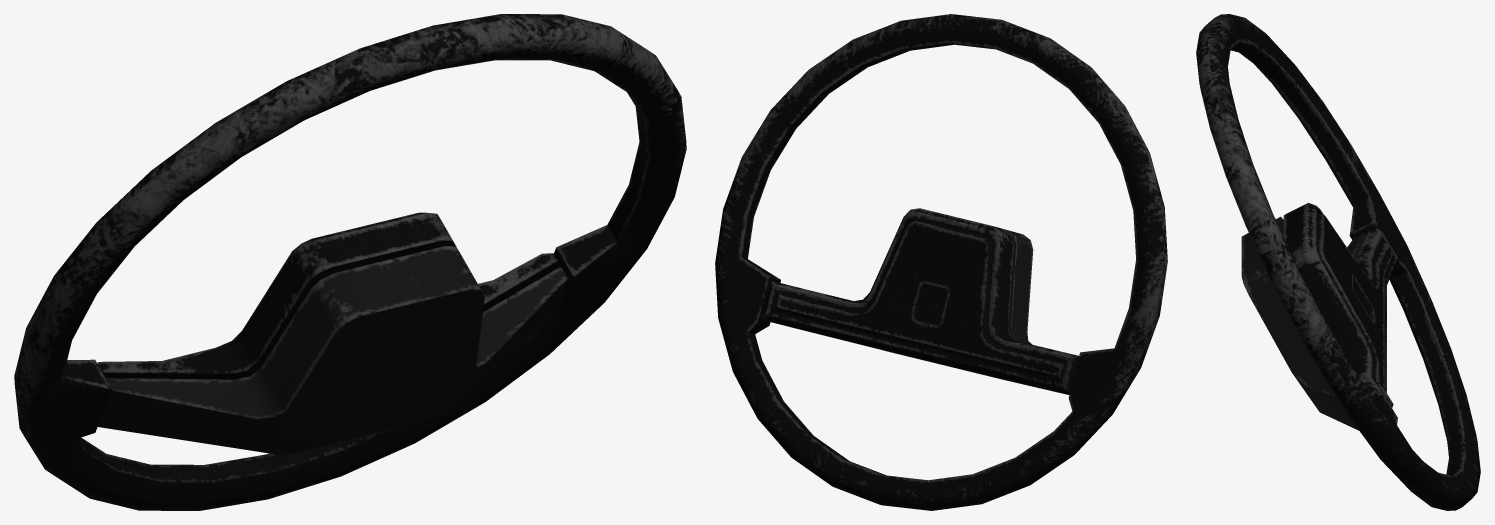
File: steering_wheel.fbx
3 renders of one model, left to right at view 1: azimuth 30°, elevation 25°; view 2: azimuth 150°, elevation 25°; view 3: azimuth 270°, elevation 25°, orthographic. The views are drawn at different scales.
Parts seen in each view (by area): view 1: Cylinder.027, Cube.037, Cube.038; view 2: Cylinder.027, Cube.038, Cube.037; view 3: Cylinder.027, Cube.038, Cube.037.
Boxes of the visible parts, box(x1,y1,x2,y2) form: Cylinder.027: box(14, 14, 686, 510); Cube.037: box(97, 246, 567, 455); Cube.038: box(97, 212, 557, 379); Cylinder.027: box(715, 14, 1167, 510); Cube.038: box(761, 208, 1078, 394); Cube.037: box(769, 229, 1068, 394); Cylinder.027: box(1196, 14, 1480, 510); Cube.038: box(1283, 203, 1397, 424); Cube.037: box(1241, 216, 1365, 430).
Size of the model in its own units: 66.12 by 58.4 by 34.25.
